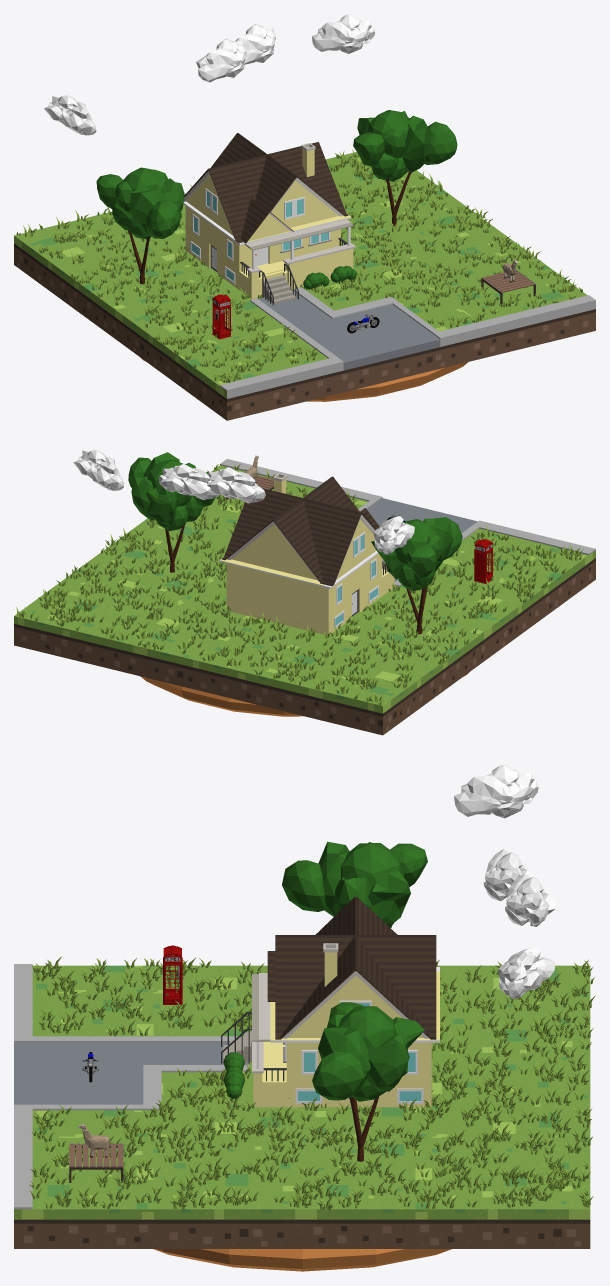
3 renders of one model, top to bottom at view 1: azimuth 30°, elevation 25°; view 2: azimuth 150°, elevation 25°; view 3: azimuth 270°, elevation 25°, orthographic. The views are drawn at different scales.
Visible parts, largest first — view 1: Cube.006, Cube.1555, Circle.012_Grass_0.192, Cube.007, tree, tree.001, UNDERGROUND_PIZZA, Cube.009, OBJRANDOM_PHONEBOOTH; view 2: Cube.006, Cube.1555, Circle.012_Grass_0.192, Cube.007, tree.001, tree, UNDERGROUND_PIZZA, OBJRANDOM_PHONEBOOTH; view 3: Cube.006, Circle.012_Grass_0.192, Cube.1555, tree, Cube.007, tree.001, UNDERGROUND_PIZZA, Cube.009, OBJRANDOM_PHONEBOOTH.
Part boxes in pixels (x1,y1,x2,y2): Cube.006: [14, 152, 595, 420]; Cube.1555: [183, 133, 355, 305]; Circle.012_Grass_0.192: [16, 149, 582, 382]; Cube.007: [44, 14, 375, 135]; tree: [353, 110, 457, 226]; tree.001: [96, 167, 184, 284]; UNDERGROUND_PIZZA: [141, 358, 467, 401]; Cube.009: [481, 269, 535, 304]; OBJRANDOM_PHONEBOOTH: [212, 294, 230, 339]; Cube.006: [14, 459, 595, 735]; Cube.1555: [219, 473, 394, 635]; Circle.012_Grass_0.192: [16, 464, 582, 705]; Cube.007: [73, 449, 414, 554]; tree.001: [371, 517, 462, 634]; tree: [128, 452, 214, 572]; UNDERGROUND_PIZZA: [140, 673, 468, 716]; OBJRANDOM_PHONEBOOTH: [474, 539, 493, 583]; Cube.006: [14, 964, 590, 1248]; Circle.012_Grass_0.192: [29, 956, 594, 1210]; Cube.1555: [221, 896, 439, 1107]; tree: [312, 1002, 424, 1161]; Cube.007: [454, 764, 555, 999]; tree.001: [282, 841, 427, 927]; UNDERGROUND_PIZZA: [153, 1249, 451, 1271]; Cube.009: [69, 1143, 123, 1182]; OBJRANDOM_PHONEBOOTH: [163, 945, 182, 1004].
Size of the model in its own units: 4071 by 2387 by 4040.
Materials: 45 (3 with a texture image).
